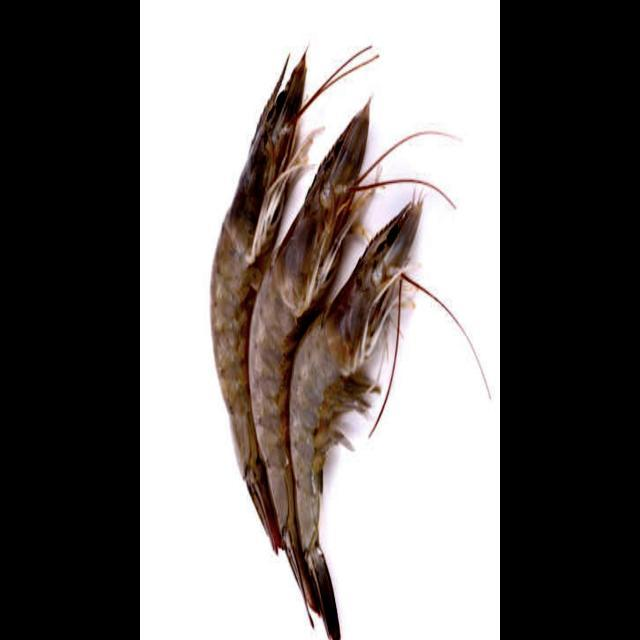shrimp: (249, 105, 368, 608), (288, 203, 420, 640), (210, 58, 305, 552)
